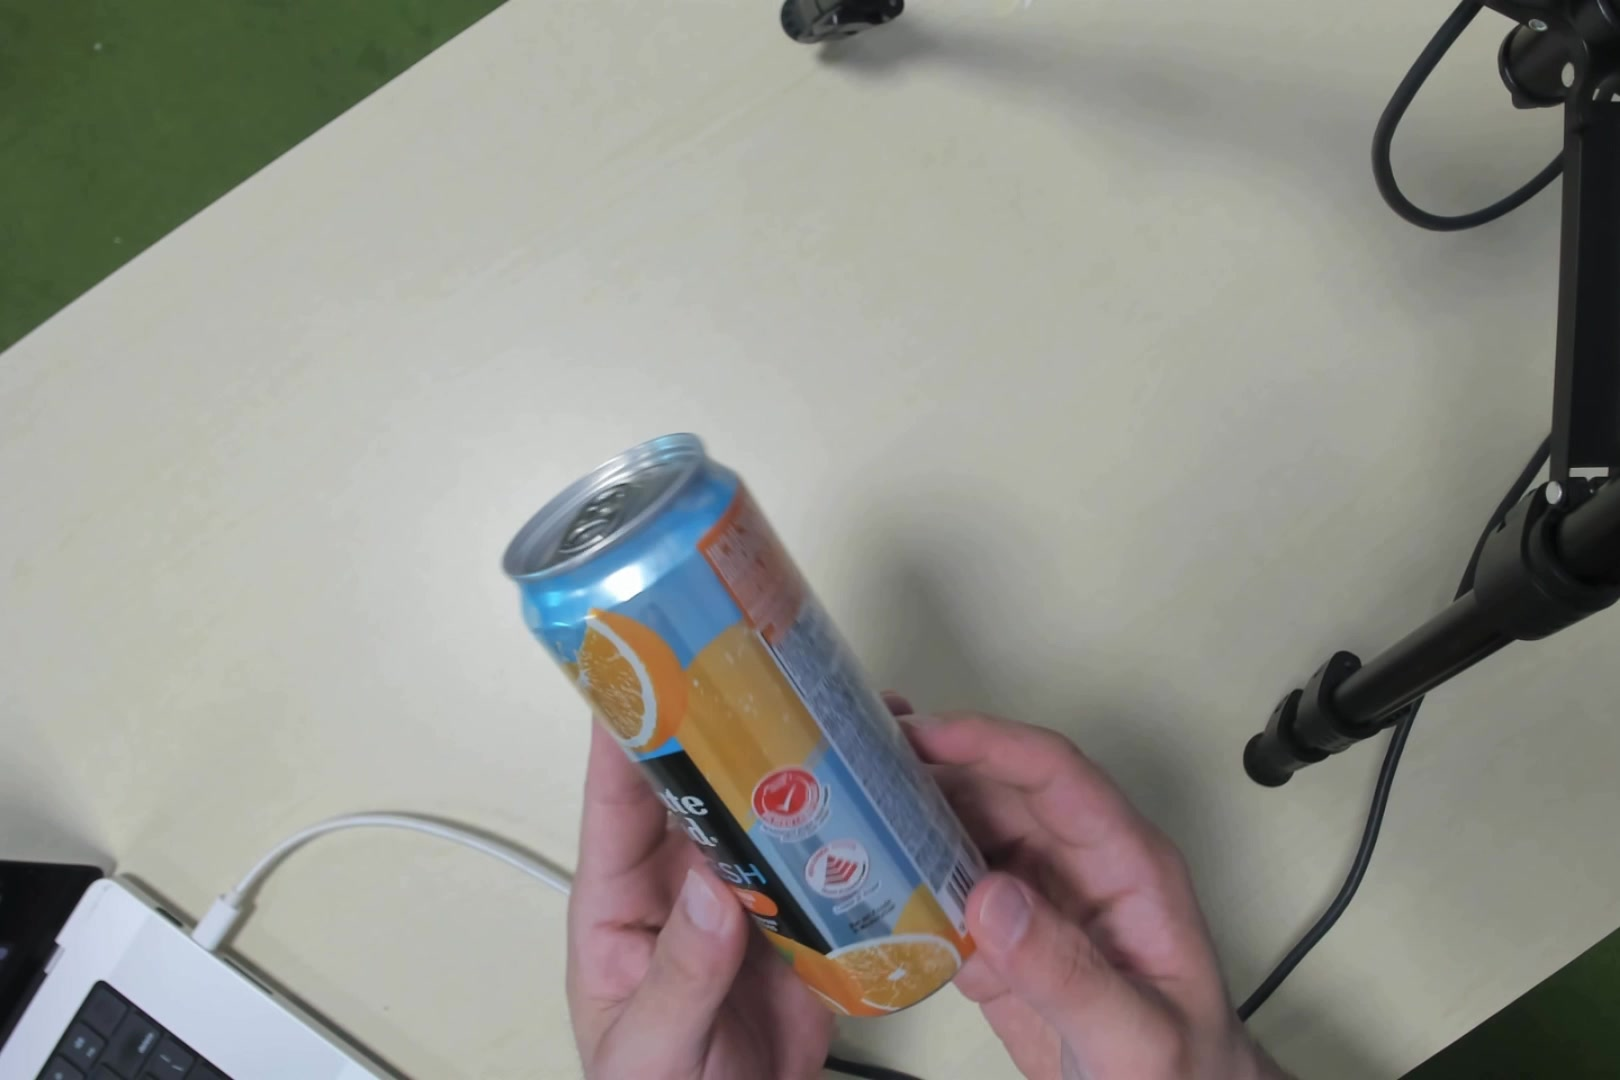SoftDrinks_200-299g_Halal_Healthy: (542, 487, 961, 1000)
